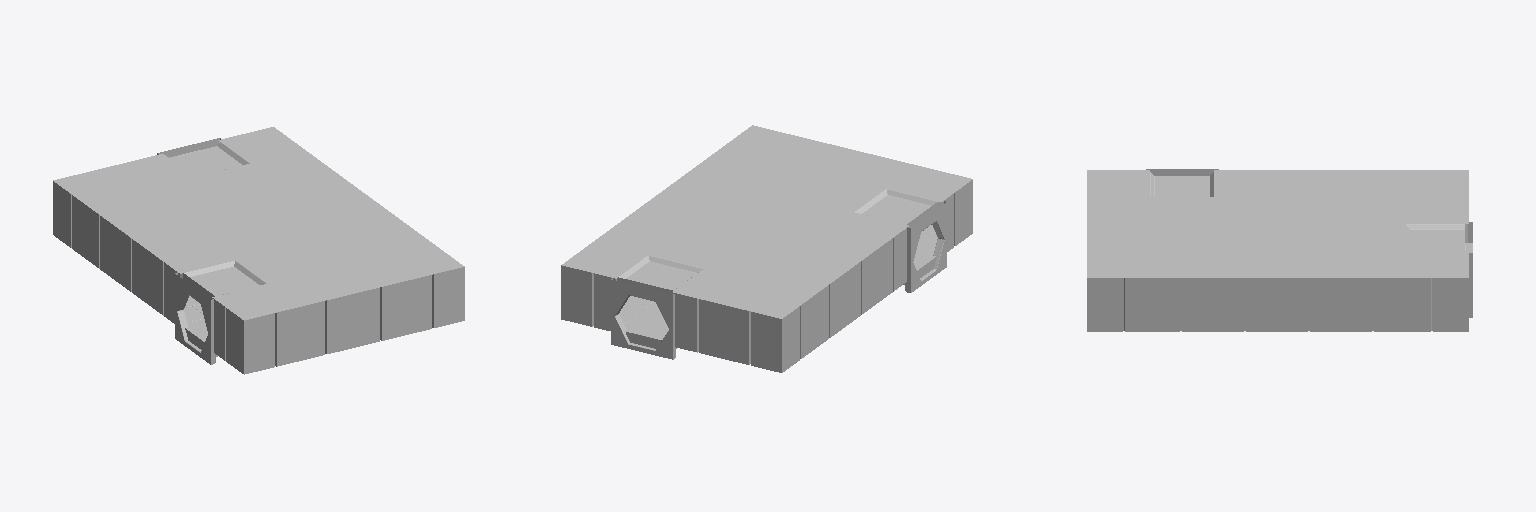
The model's file is EngineRoom.obj.
3 renders of one model, left to right at view 1: azimuth 30°, elevation 25°; view 2: azimuth 150°, elevation 25°; view 3: azimuth 270°, elevation 25°, orthographic.
Visible parts, largest first — view 1: Cube.043_Cube.024; view 2: Cube.043_Cube.024; view 3: Cube.043_Cube.024.
Part boxes in pixels (left/top/right/bottom): Cube.043_Cube.024: left=53, top=127, right=464, bottom=374; Cube.043_Cube.024: left=561, top=125, right=972, bottom=372; Cube.043_Cube.024: left=1087, top=169, right=1472, bottom=331.
Size of the model in its own units: 65.01 by 18.08 by 97.01.